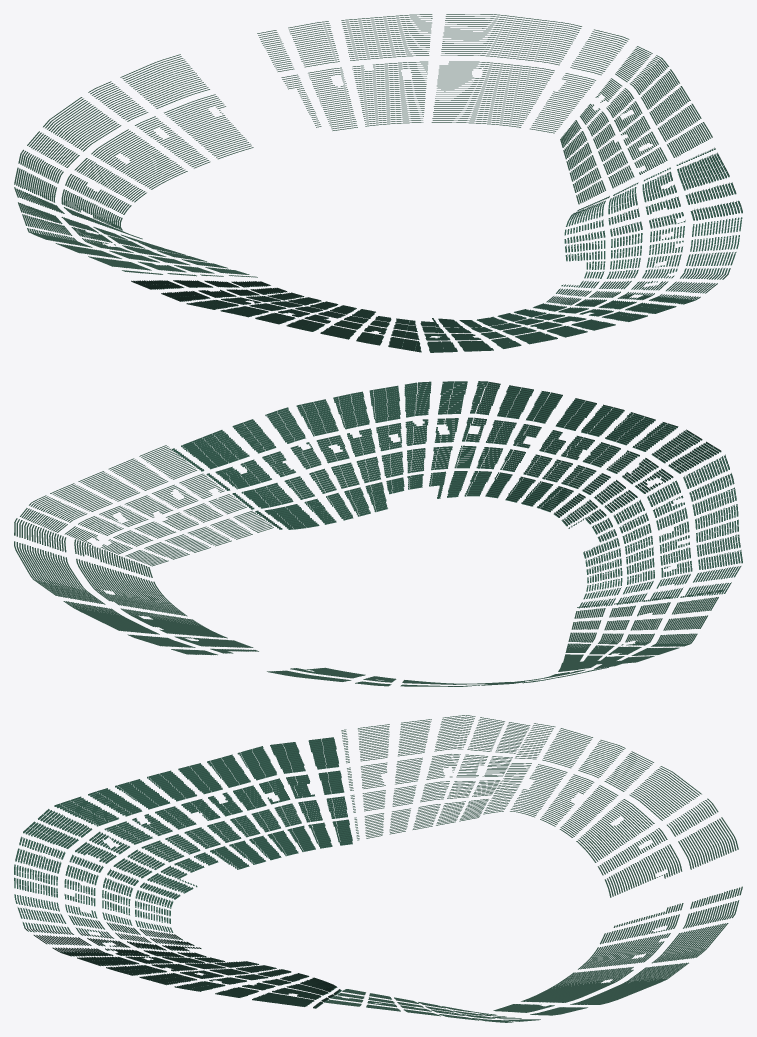
The model's file is r15_lite_seats.glb.
3 renders of one model, top to bottom at view 1: azimuth 30°, elevation 25°; view 2: azimuth 150°, elevation 25°; view 3: azimuth 270°, elevation 25°, orthographic. The views are drawn at different scales.
Visible parts, largest first — view 1: seats; view 2: seats; view 3: seats.
Boxes of the visible parts, bbox=[...] form: seats: bbox=[14, 14, 742, 352]; seats: bbox=[14, 381, 742, 686]; seats: bbox=[14, 715, 742, 1022].
Size of the model in its own units: 226 by 17.27 by 226.
2 materials, 2 textured.
